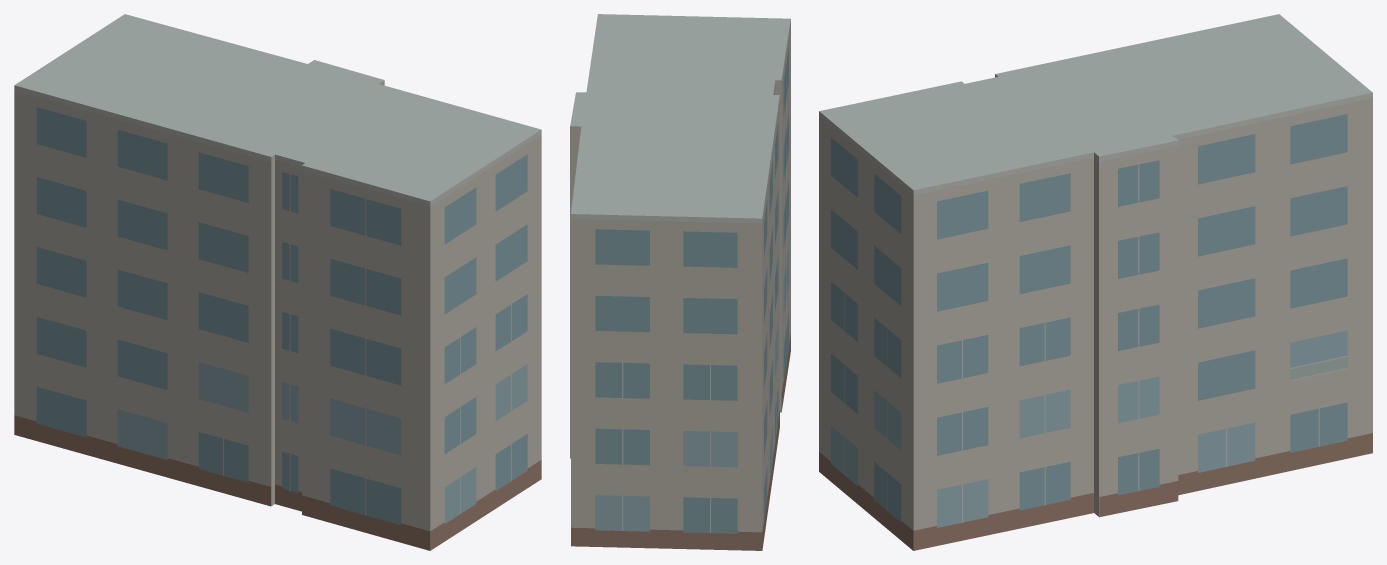
The model's file is survey-upis-32908551.glb.
3 views of the same model, side by side, from view 1: azimuth 30°, elevation 25°; view 2: azimuth 150°, elevation 25°; view 3: azimuth 270°, elevation 25° (orthographic). The views are drawn at different scales.
Parts seen in each view (by area): view 1: survey-upis-32908551.tmp; view 2: survey-upis-32908551.tmp; view 3: survey-upis-32908551.tmp.
Boxes of the visible parts, x1=… form: survey-upis-32908551.tmp: x1=14, y1=14, x2=541, y2=550; survey-upis-32908551.tmp: x1=570, y1=14, x2=790, y2=550; survey-upis-32908551.tmp: x1=819, y1=14, x2=1372, y2=550.
Bounding box in the file's own units: 17.1 × 16.3 × 22.69.
